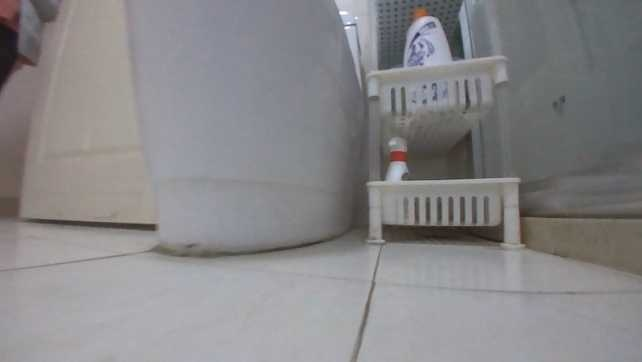toilet: (118, 3, 364, 259)
